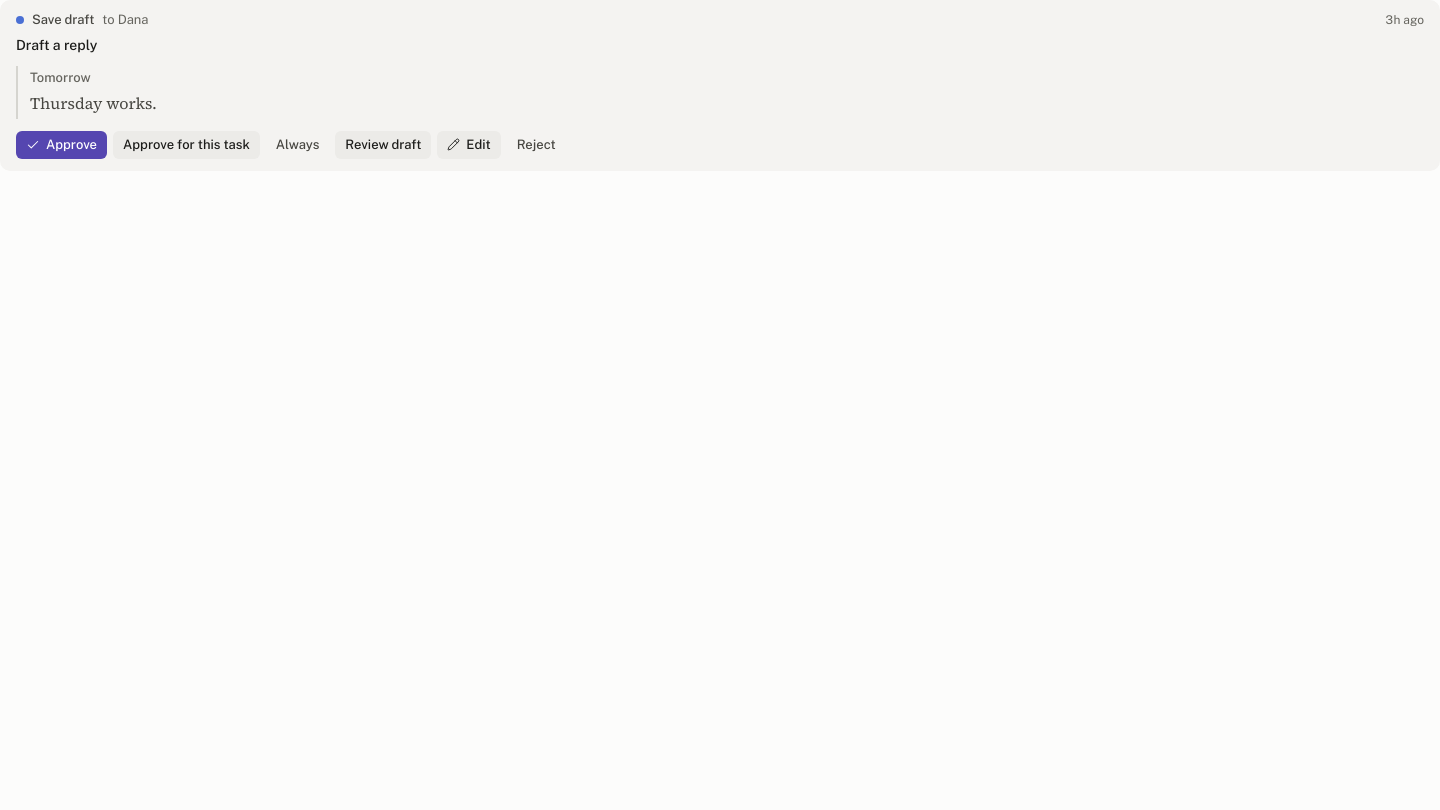
side-by-side draft review › saves inline edits without approving and reopens with the saved content
Click the button "Review draft" at (383, 145), box left=335, top=131, right=431, bottom=159
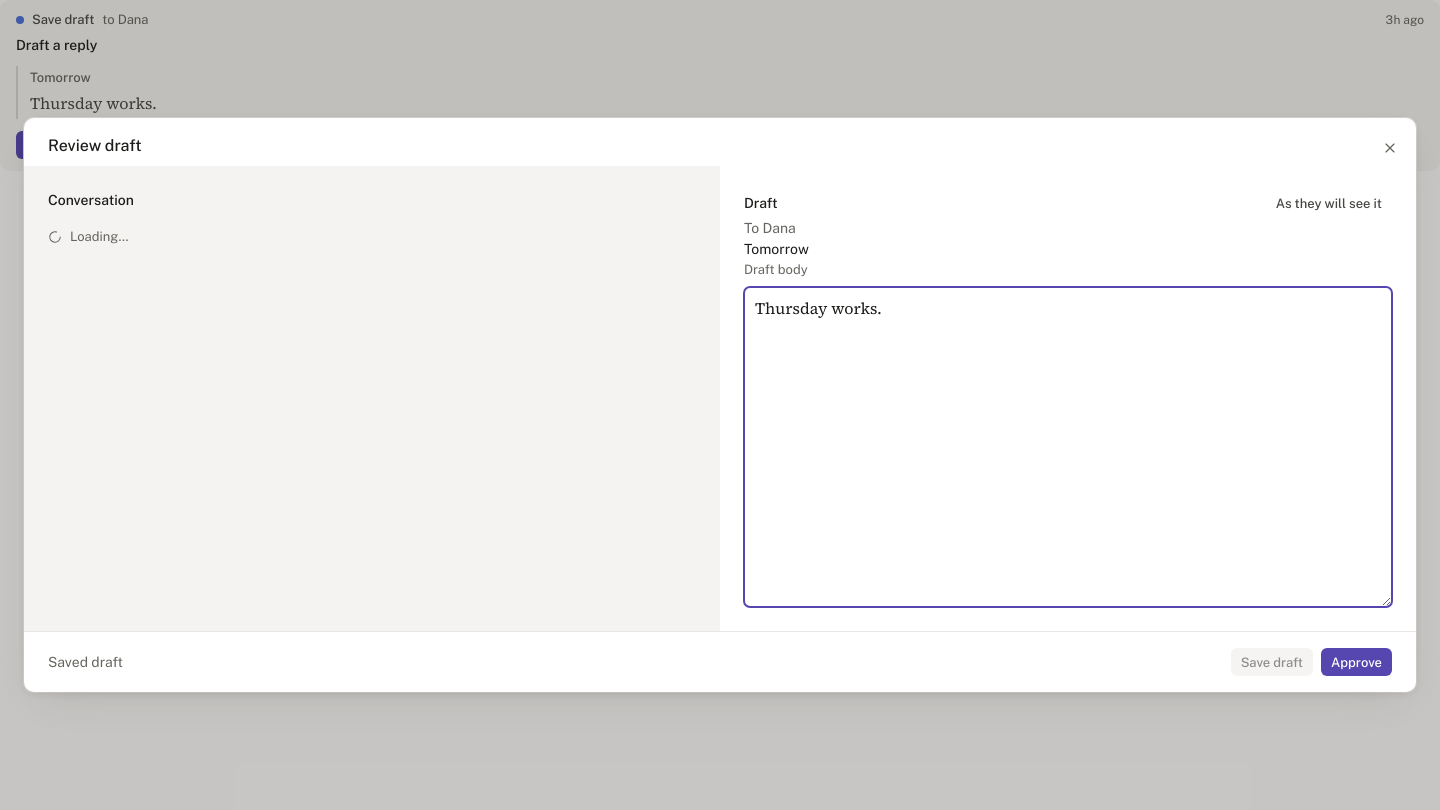
Replace the text in the text box with "Friday works." at (1068, 447), box left=744, top=287, right=1392, bottom=607
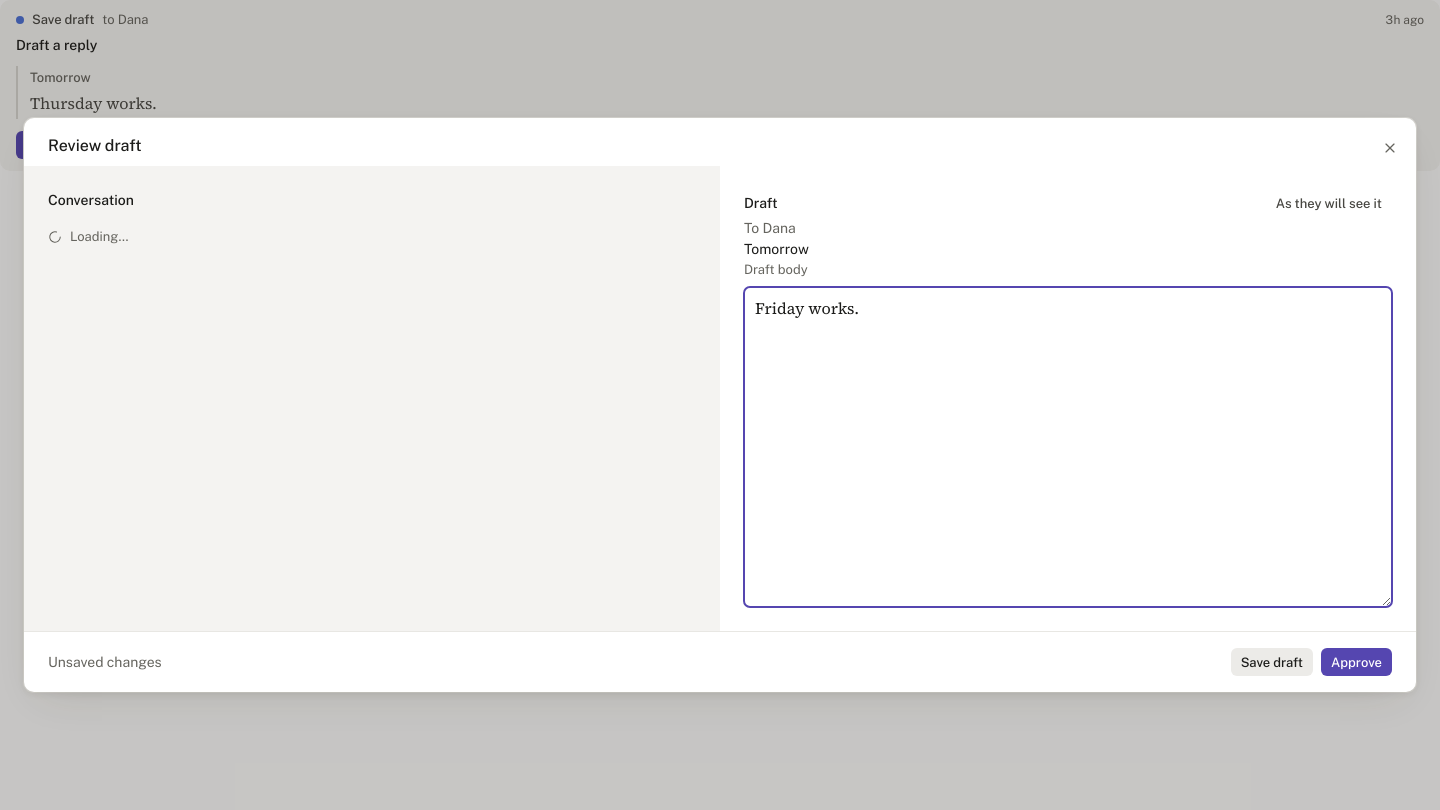
Click the button "Save draft" at (1272, 662), box left=1231, top=648, right=1313, bottom=676
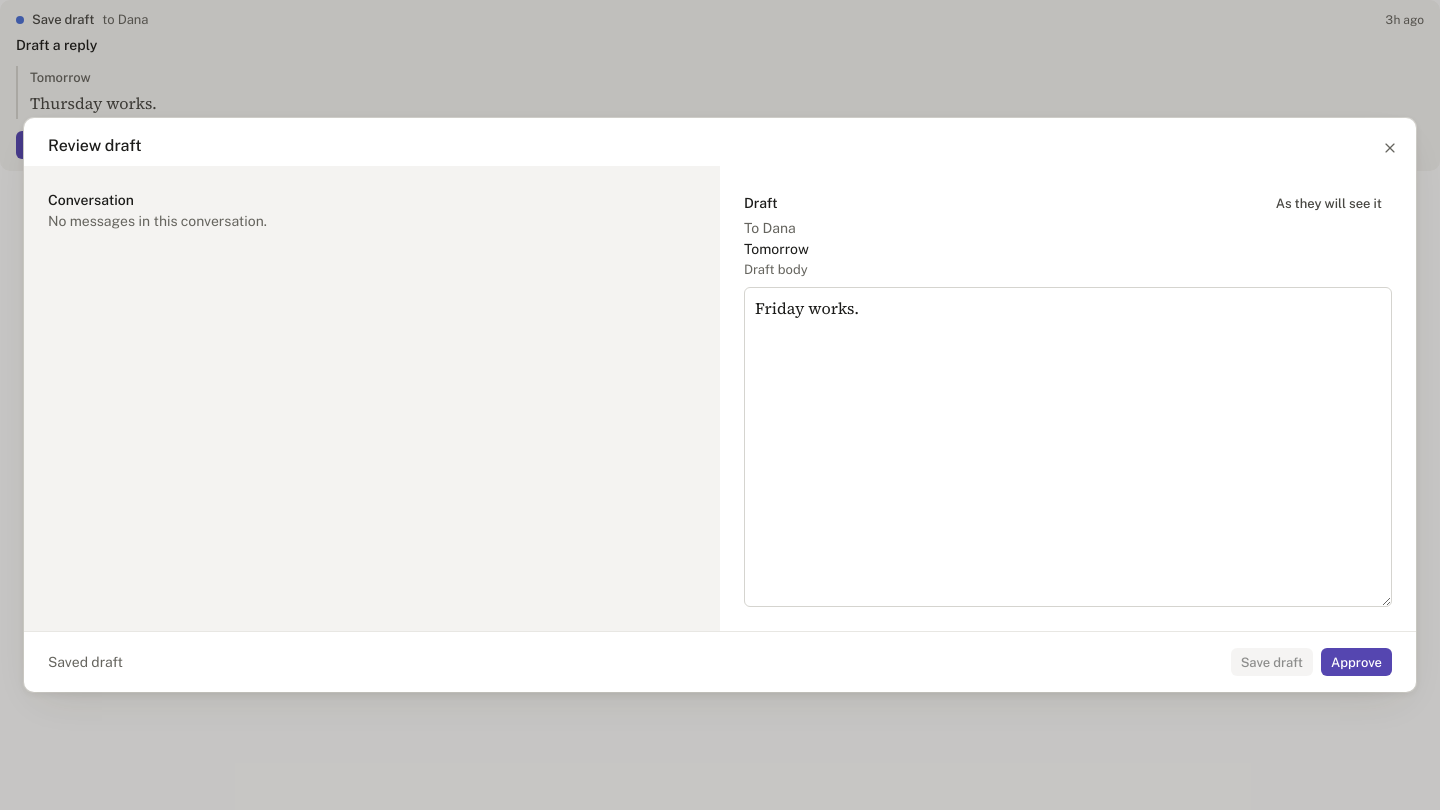
Check: the message reads "Saved draft", box left=48, top=654, right=123, bottom=670
Click the button named "Close" at (1390, 148), box left=1376, top=134, right=1404, bottom=162
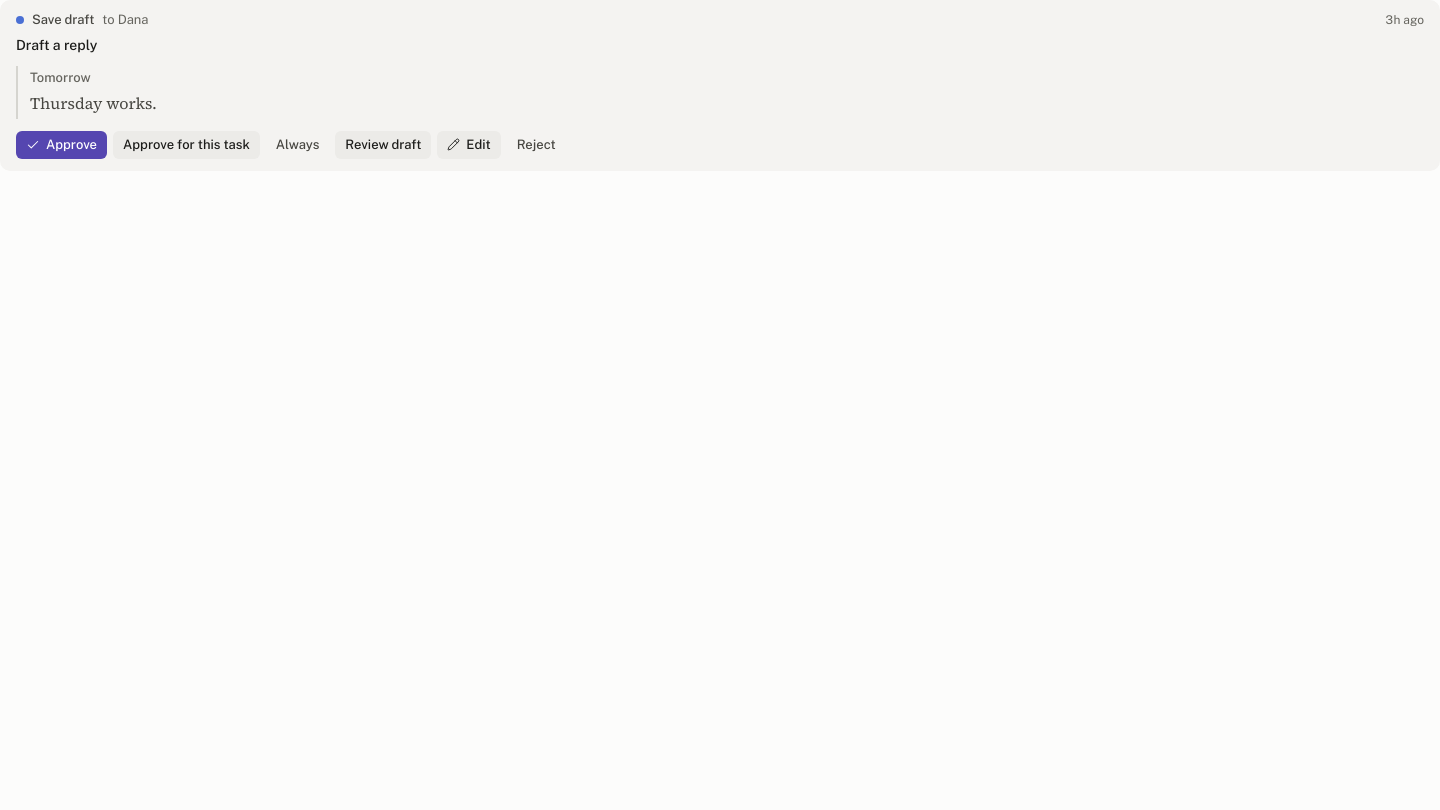
Click the button "Review draft" at (383, 145), box left=335, top=131, right=431, bottom=159
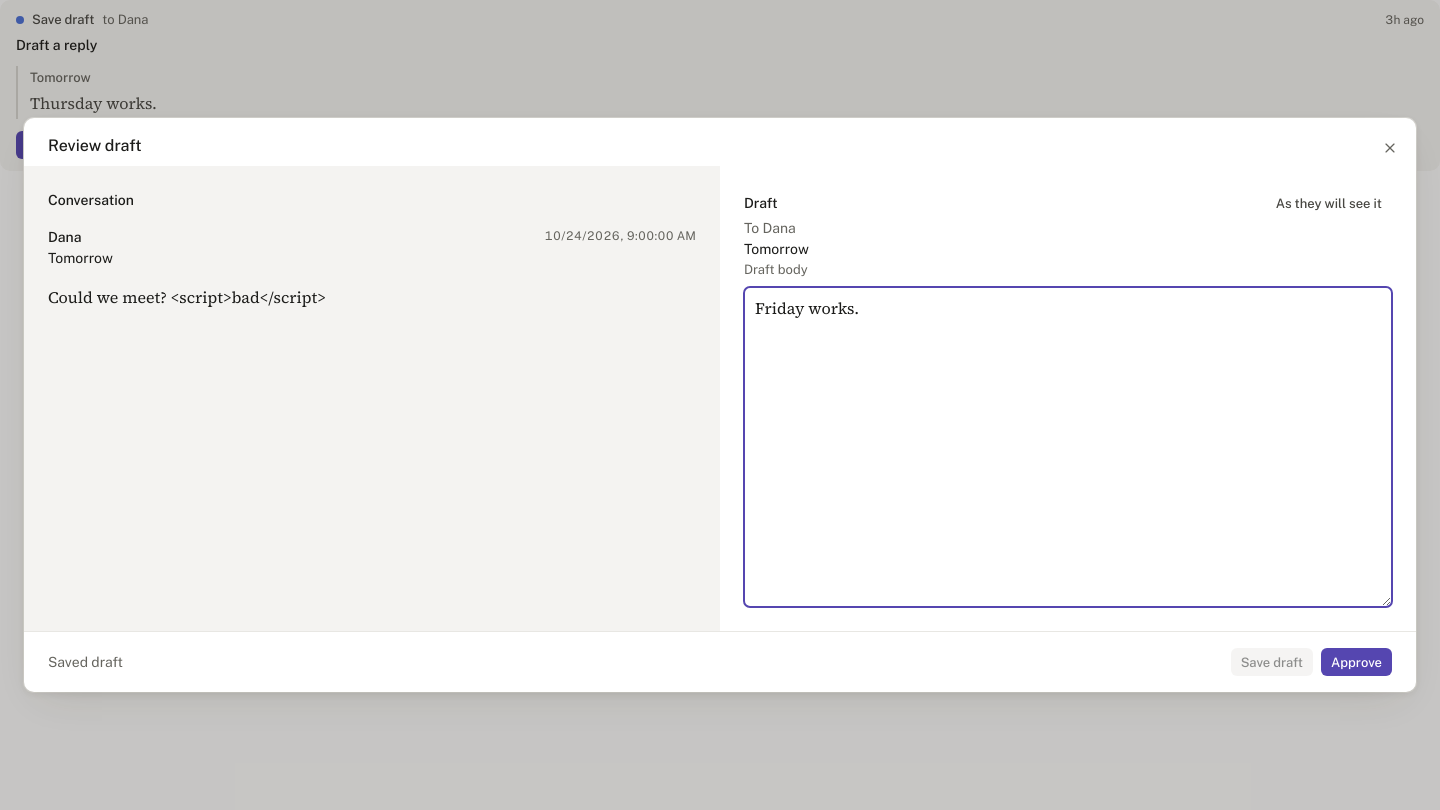
Check: the text box holds "Friday works.", box left=744, top=287, right=1392, bottom=607
